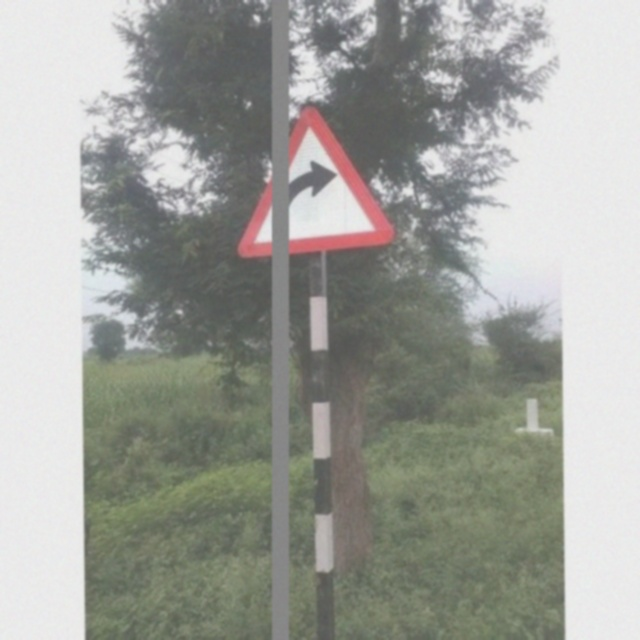Right_Hand_Curve: (232, 104, 401, 255)
